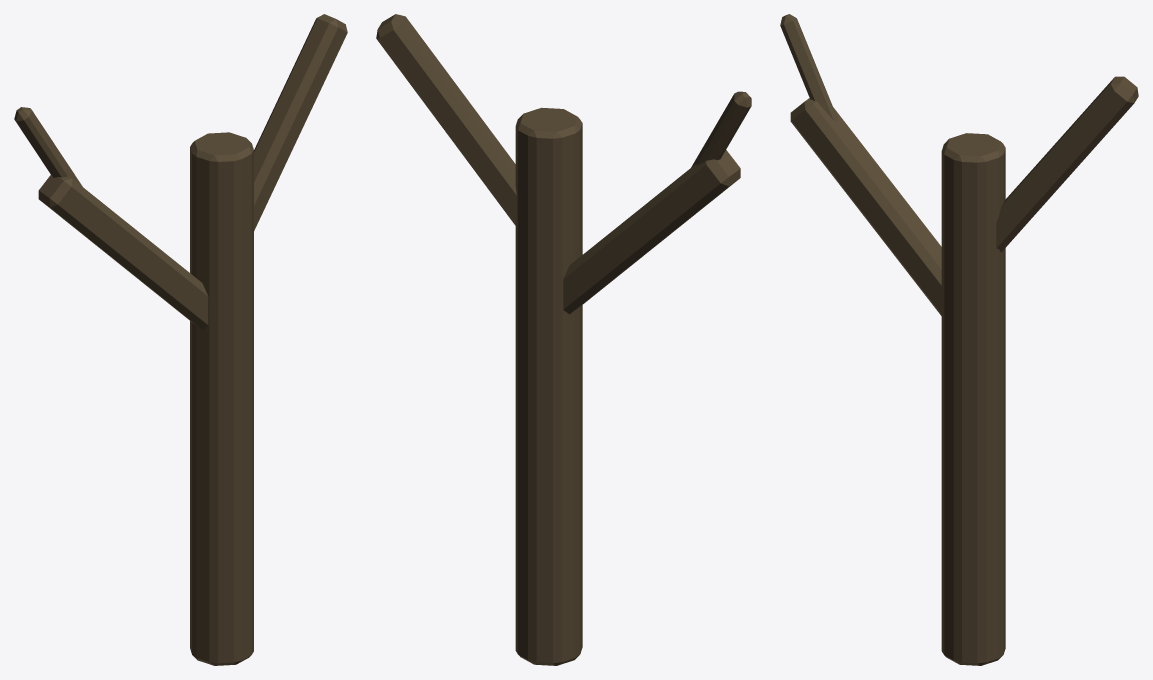
The model's file is dead_tree.glb.
The picture shows the model from 3 angles, left to right: view 1: azimuth 30°, elevation 25°; view 2: azimuth 150°, elevation 25°; view 3: azimuth 330°, elevation 25°; orthographic projection. The views are drawn at different scales.
Parts seen in each view (by area): view 1: Trunk, BranchL, BranchR, Twig; view 2: Trunk, BranchL, BranchR, Twig; view 3: Trunk, BranchL, BranchR, Twig.
Part boxes in pixels (<box>): Trunk: <box>190,132,253,665</box>; BranchL: <box>38,175,208,329</box>; BranchR: <box>254,14,347,230</box>; Twig: <box>14,107,82,186</box>; Trunk: <box>515,107,582,665</box>; BranchL: <box>563,150,740,314</box>; BranchR: <box>376,14,516,225</box>; Twig: <box>691,91,751,167</box>; Trunk: <box>941,133,1005,665</box>; BranchL: <box>790,98,941,315</box>; BranchR: <box>996,76,1138,252</box>; Twig: <box>780,14,838,121</box>.
Bounding box in the file's own units: 1.4 × 2.32 × 0.3185.
